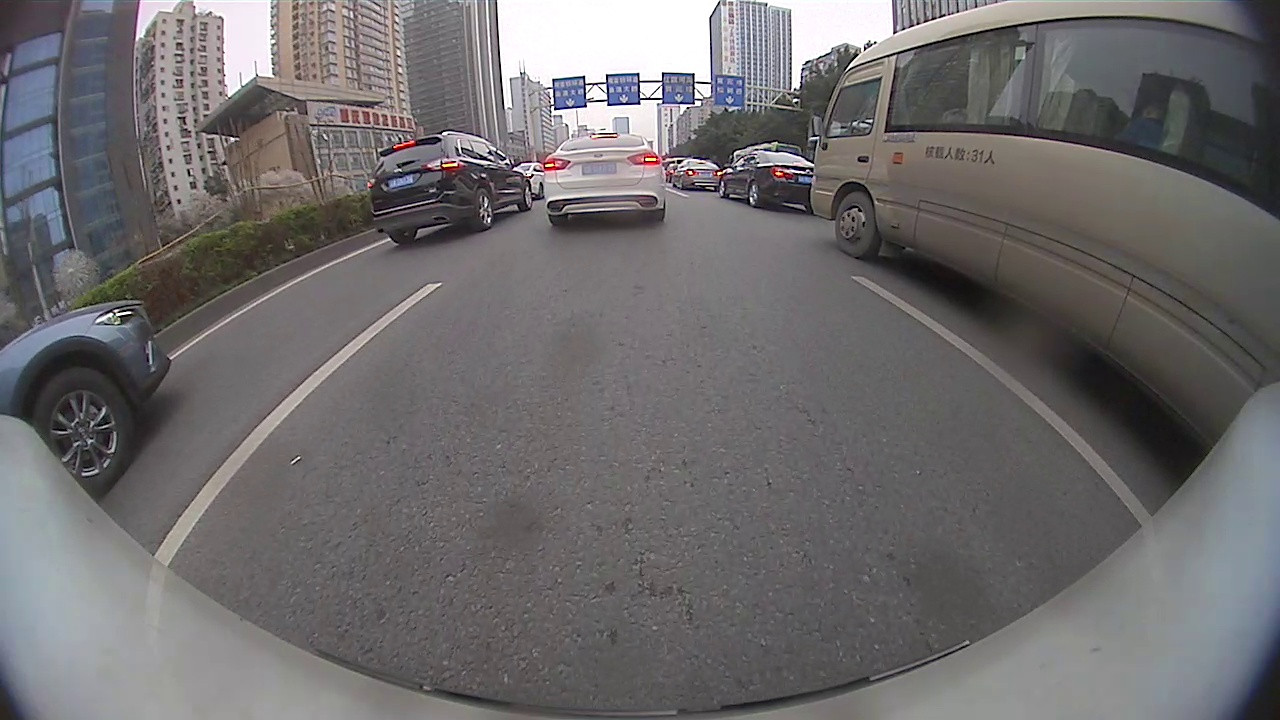bus: (809, 1, 1277, 450)
car: (1, 298, 174, 494), (366, 130, 532, 242), (545, 134, 666, 225), (720, 150, 812, 207), (673, 158, 721, 193), (518, 161, 544, 198)
front: (23, 365, 141, 484), (833, 190, 882, 258), (516, 180, 533, 211)
rear: (469, 186, 494, 233), (746, 181, 763, 208)
